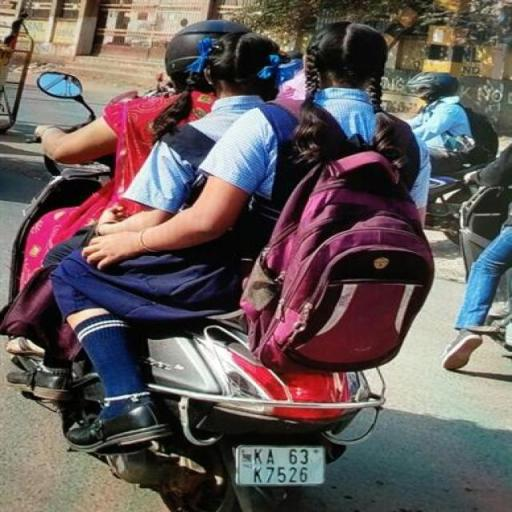tripple riding: (34, 13, 432, 331)
